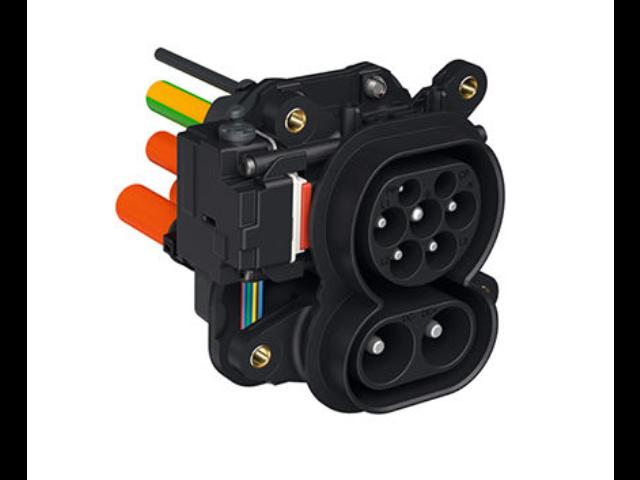inlet: (368, 162, 481, 287)
inlet-above-left: (397, 178, 420, 207)
inlet-above-right: (434, 170, 455, 197)
inlet-below-left: (389, 241, 423, 280)
inlet-below-right: (426, 230, 457, 270)
inlet-circle: (407, 198, 440, 239)
inlet-circle-left: (373, 206, 406, 249)
inlet-circle-right: (443, 190, 475, 229)
inlet-minus: (422, 306, 471, 367)
inlet-plus: (360, 322, 414, 385)
